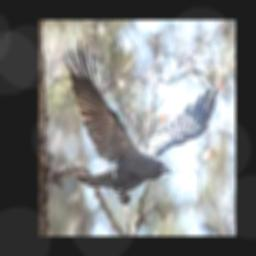Crow: (65, 38, 218, 204)
